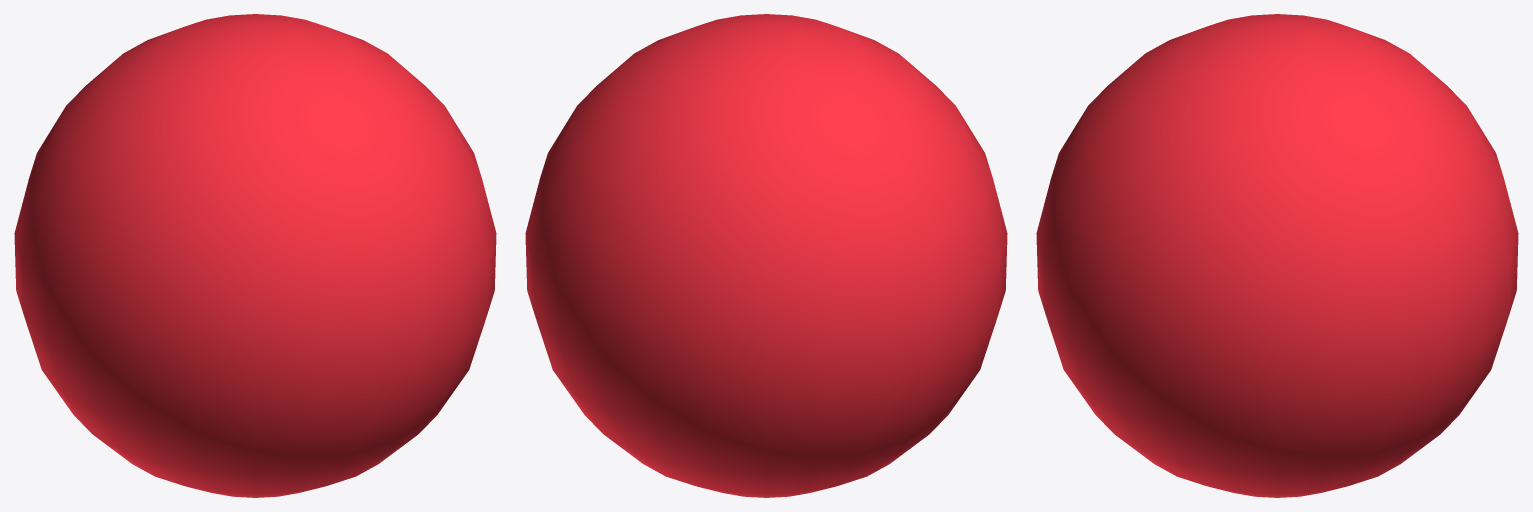
The model's file is ball_red.obj.
3 views of the same model, side by side, from view 1: azimuth 30°, elevation 25°; view 2: azimuth 150°, elevation 25°; view 3: azimuth 270°, elevation 25° (orthographic).
Visible parts, largest first — view 1: ball_red; view 2: ball_red; view 3: ball_red.
Boxes of the visible parts, x1,y1,x2,y2 form: ball_red: [14, 14, 496, 497]; ball_red: [525, 14, 1007, 497]; ball_red: [1036, 14, 1518, 497].
Size of the model in its own units: 0.0699 by 0.0698 by 0.0699.
